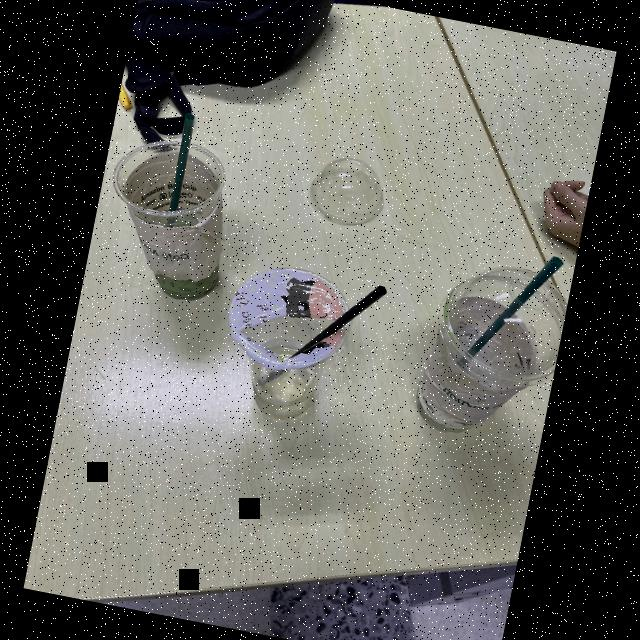plastic_cup: (408, 262, 564, 460), (87, 127, 238, 319), (221, 260, 352, 422)
plastic_cup_lid: (428, 245, 574, 398), (293, 143, 401, 239)
straw: (254, 282, 388, 388), (458, 254, 564, 371), (164, 112, 196, 229)
